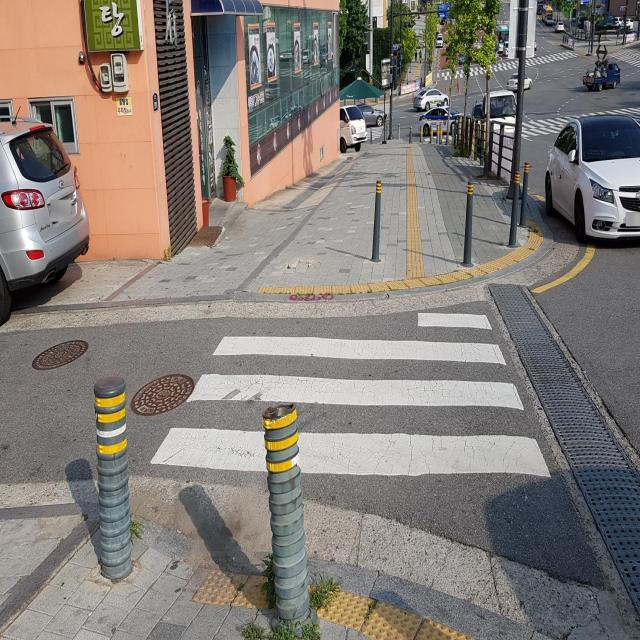횡단보도: (148, 309, 553, 482), (436, 50, 577, 84), (515, 108, 640, 138)
